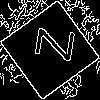Z: (25, 25, 75, 62)
